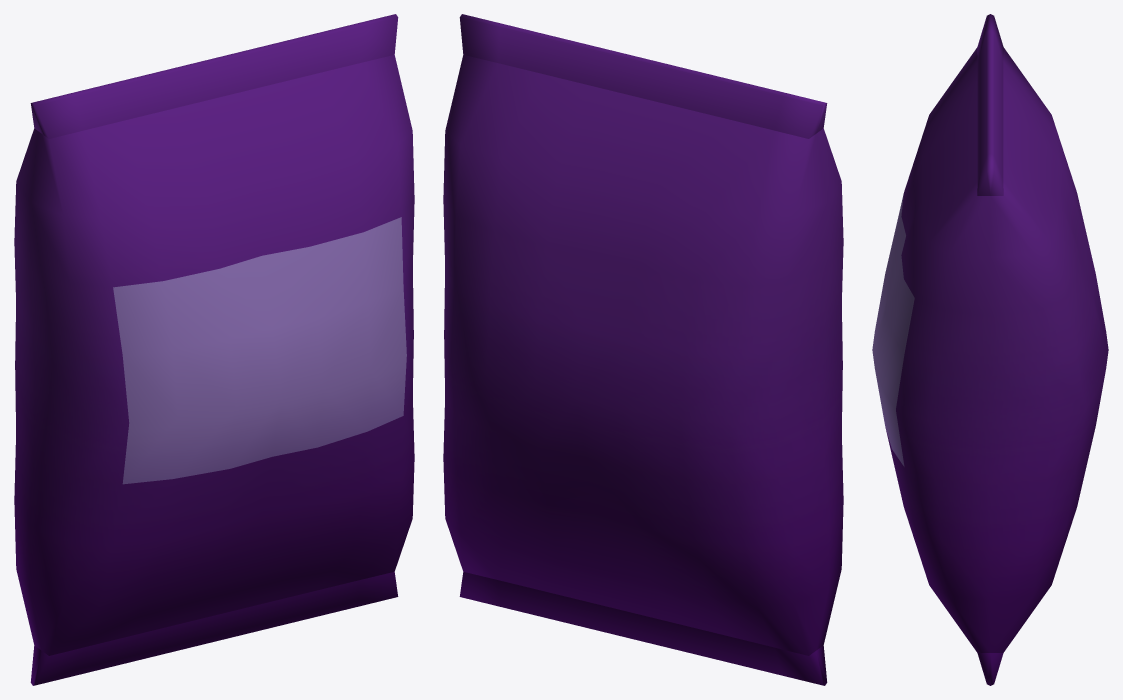
Rendered from Flow_pack_05.fbx.
3 views of the same model, side by side, from view 1: azimuth 30°, elevation 25°; view 2: azimuth 150°, elevation 25°; view 3: azimuth 270°, elevation 25° (orthographic). The views are drawn at different scales.
Visible parts, largest first — view 1: Flow_pack_05; view 2: Flow_pack_05; view 3: Flow_pack_05.
Part boxes in pixels (left/top/right/bottom): Flow_pack_05: left=14, top=14, right=414, bottom=685; Flow_pack_05: left=443, top=14, right=843, bottom=685; Flow_pack_05: left=872, top=14, right=1108, bottom=685.
Size of the model in its own units: 174 by 109 by 261.
